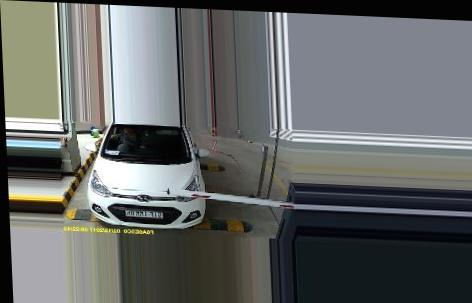License_Plate: (125, 206, 166, 222)
